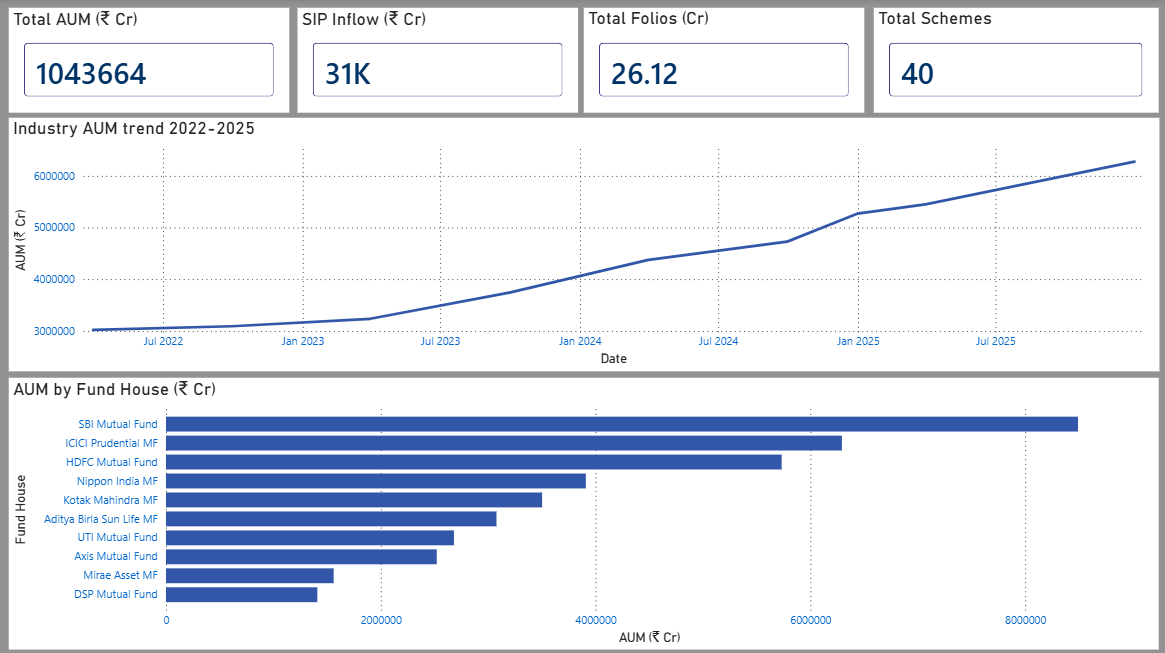

The page's visual inventory and layout, read from the dashboard file:
{"tool":"powerbi","page":{"name":"Industry Overview","canvas":[1280,720],"ordinal":0},"visuals":[{"type":"cardVisual","title":"Total AUM (₹ Cr)","fields":{"Data":["Sum(clean_performance.aum_crore)"]},"box":[9.6,9.6,308,115.3],"z":0},{"type":"cardVisual","title":"SIP Inflow (₹ Cr)","fields":{"Data":["Max(04_monthly_sip_inflows.sip_inflow_crore)"]},"box":[326.6,9.6,308,115.3],"z":1000},{"type":"cardVisual","title":"Total Folios (Cr)","fields":{"Data":["Max(06_industry_folio_count.total_folios_crore)"]},"box":[640.8,9.6,308,115.3],"z":2000},{"type":"cardVisual","title":"Total Schemes","fields":{"Data":["CountNonNull(01_fund_master.scheme_name)"]},"box":[959.2,9.6,308,115.3],"z":3000},{"type":"lineChart","title":"Industry AUM trend 2022-2025","fields":{"Y":["Sum(03_aum_by_fund_house.aum_crore)"],"Category":["03_aum_by_fund_house.date"]},"box":[9.6,130.4,1263,278],"z":4000},{"type":"clusteredBarChart","title":"AUM by Fund House (₹ Cr)","fields":{"Y":["Sum(03_aum_by_fund_house.aum_crore)"],"Category":["03_aum_by_fund_house.fund_house"]},"box":[9.6,415.8,1262,298],"z":5000}]}

Visuals, with their boxes in screenshot pixels (x1, y1, x2, y2), scaled from the page's 1280x720 canvas onto the 1165x653 screenshot:
"Total AUM (₹ Cr)" cardVisual: BBox(9, 9, 289, 113)
"SIP Inflow (₹ Cr)" cardVisual: BBox(297, 9, 578, 113)
"Total Folios (Cr)" cardVisual: BBox(583, 9, 864, 113)
"Total Schemes" cardVisual: BBox(873, 9, 1153, 113)
"Industry AUM trend 2022-2025" lineChart: BBox(9, 118, 1158, 370)
"AUM by Fund House (₹ Cr)" clusteredBarChart: BBox(9, 377, 1157, 647)
